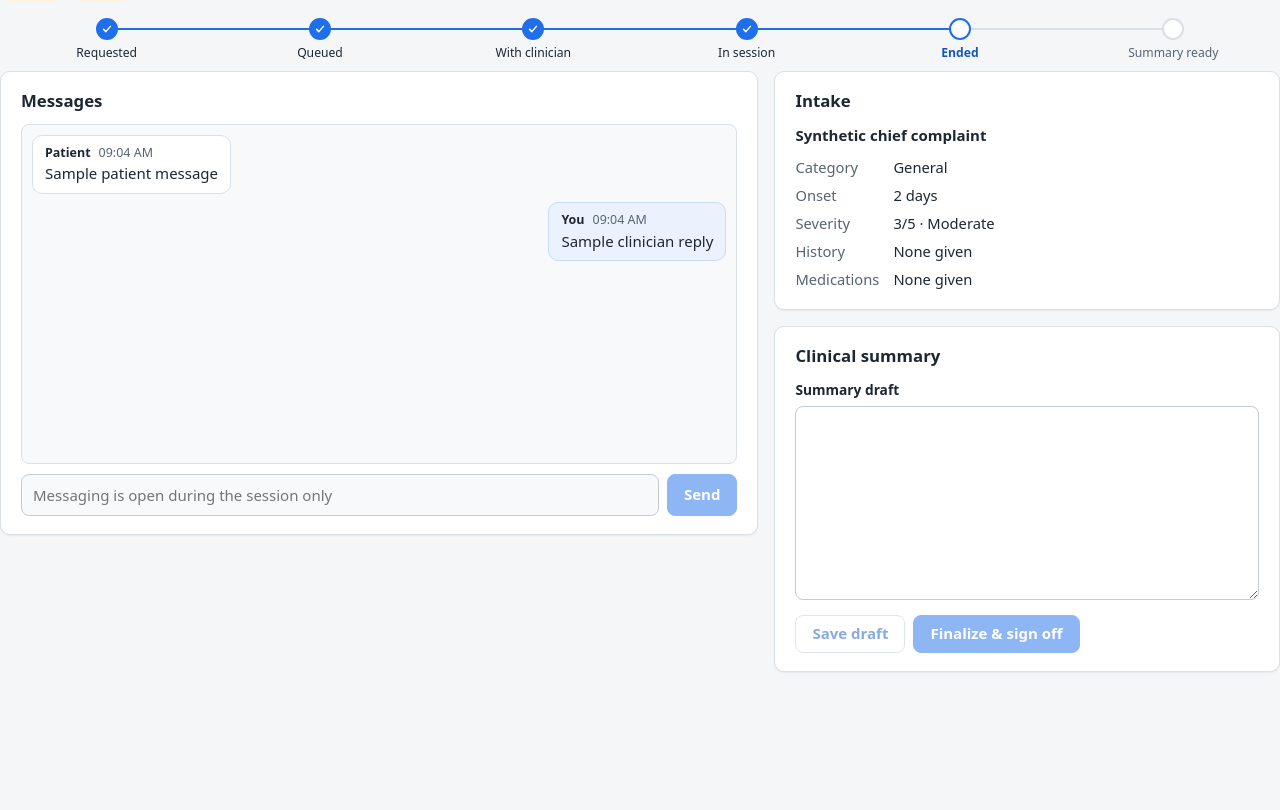
ConsultationRoom screen › cancels finalize without persisting anything
The image size is (1280, 810).
Type "Draft text" into the text box labelled "Summary draft" at (1027, 503), box [795,406,1259,600]
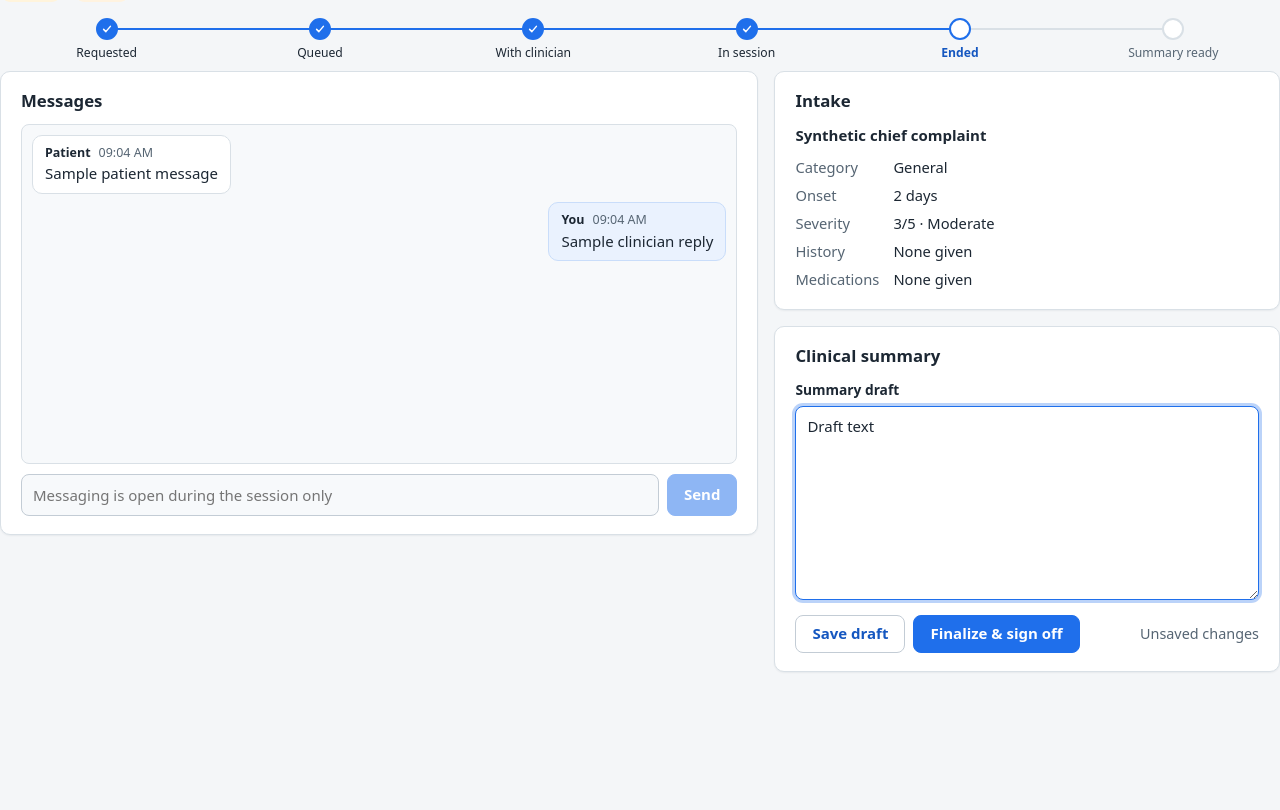
Click the button "Finalize & sign off" at (997, 634), box [913,616,1080,653]
(page scrolled)
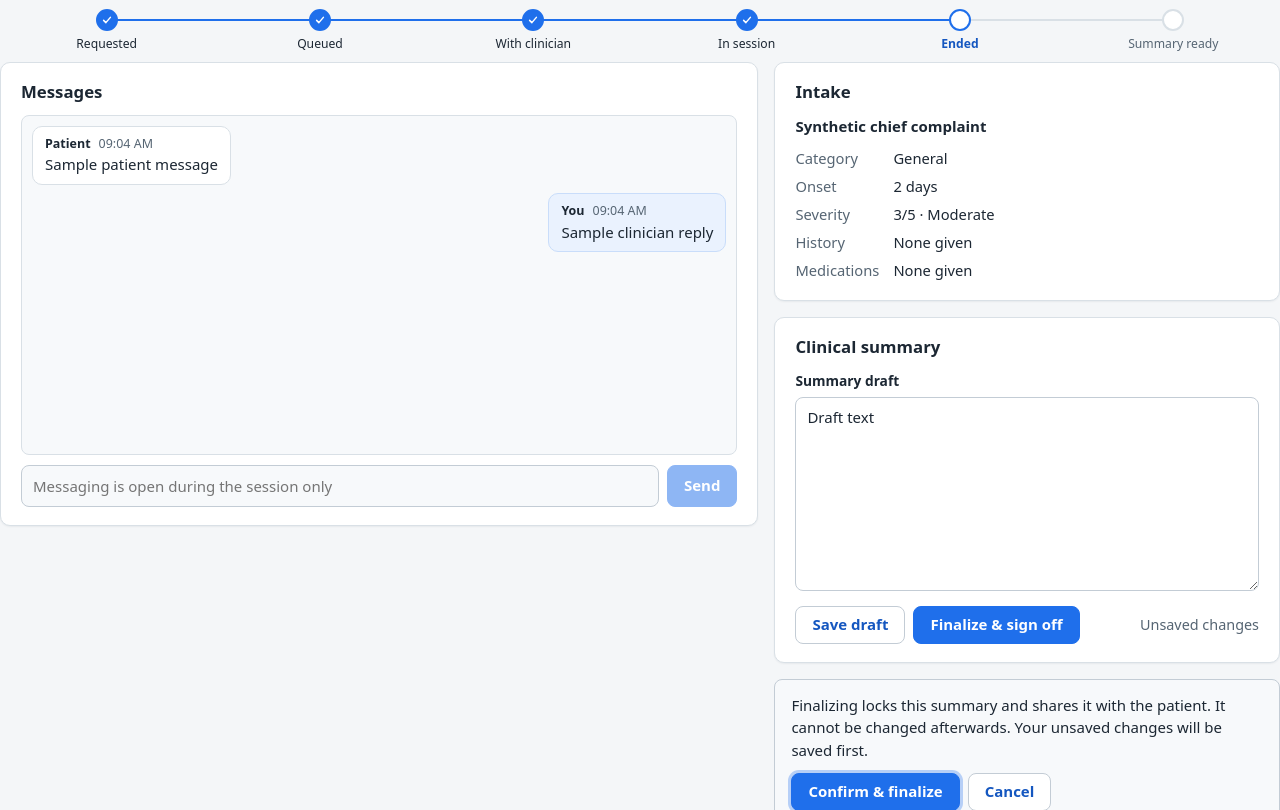
Click the button "Cancel" at (1010, 792), box [968,774,1051,809]
(page scrolled)
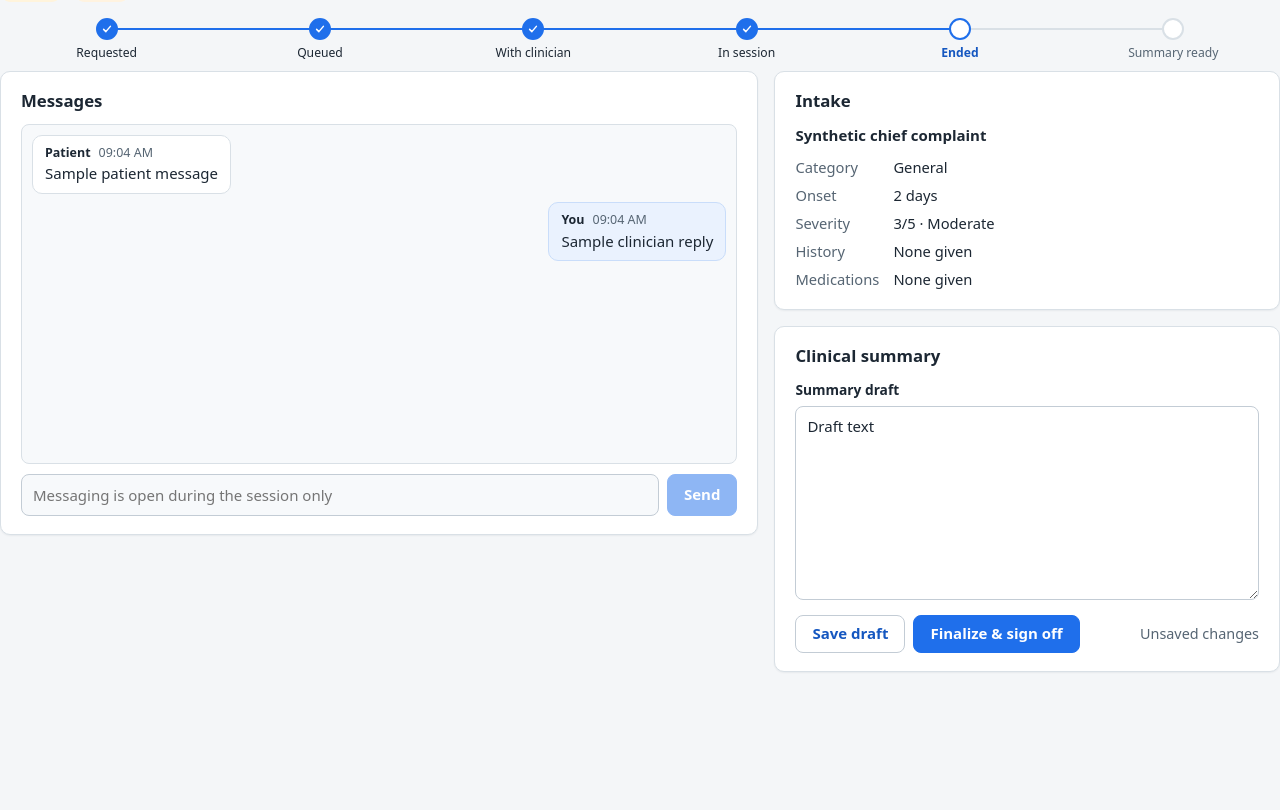
Check: the button "Confirm & finalize" is gone
